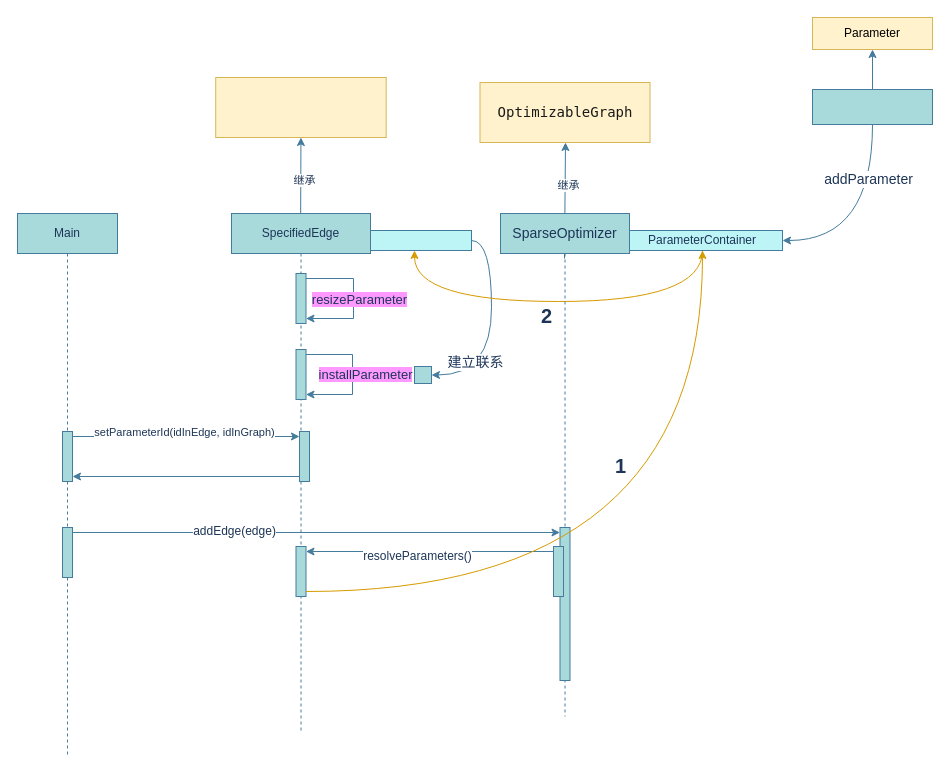
This 950x774 diagram has some shape labels left out. The centre of each missing label's shape, as x and y in pixels:
"_myParametes" goes at (x=414, y=240).
"OptimizableGraph:Edge" goes at (x=300, y=107).
"ParameterSE2Offset" goes at (x=872, y=106).
